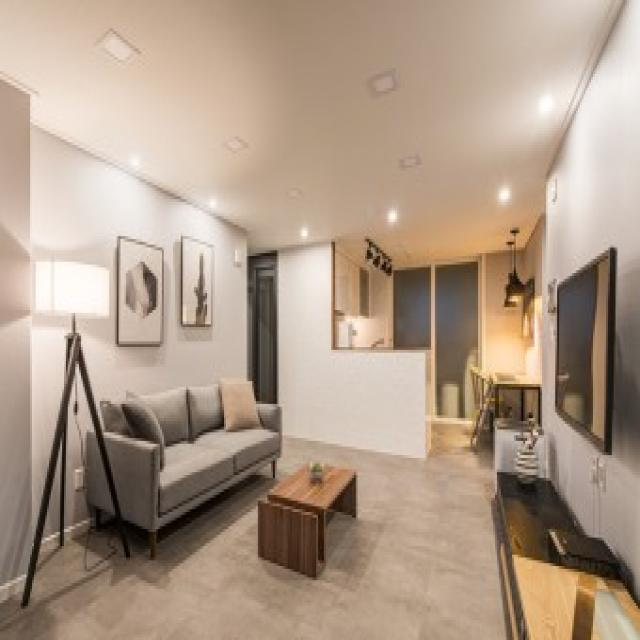Sofa: (84, 378, 280, 548)
Table: (259, 457, 354, 572)
tv: (554, 246, 618, 455)
